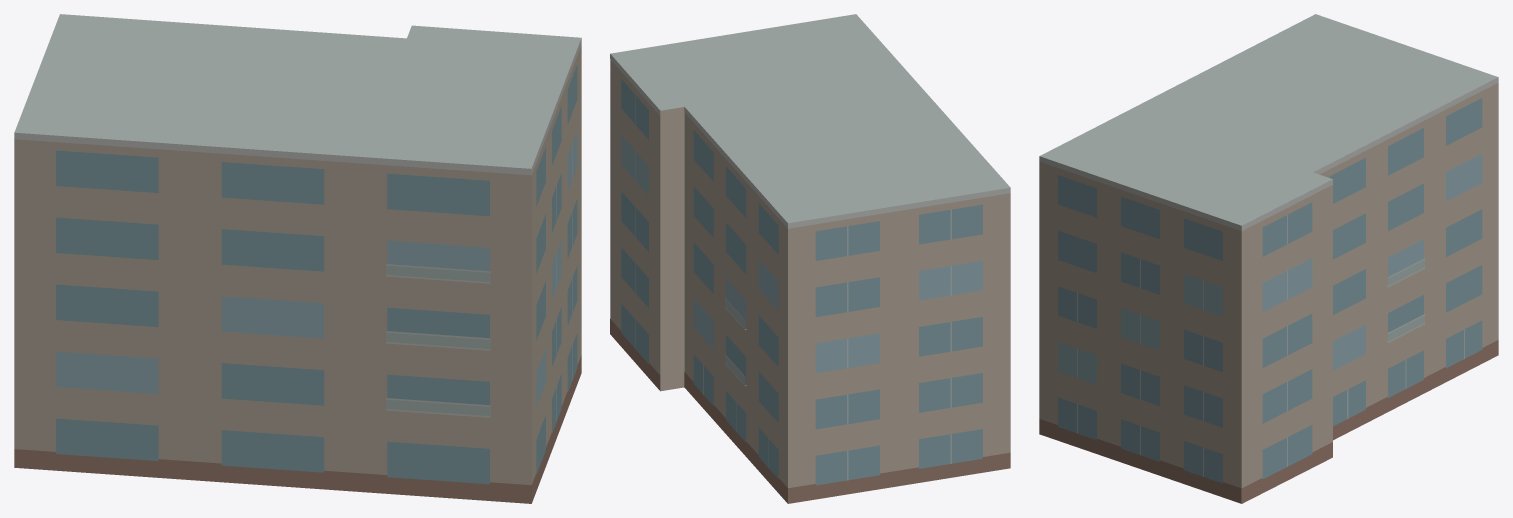
The model's file is survey-upis-32670550.glb.
3 renders of one model, left to right at view 1: azimuth 30°, elevation 25°; view 2: azimuth 150°, elevation 25°; view 3: azimuth 270°, elevation 25°, orthographic. The views are drawn at different scales.
Parts seen in each view (by area): view 1: survey-upis-32670550.tmp; view 2: survey-upis-32670550.tmp; view 3: survey-upis-32670550.tmp.
Part boxes in pixels (x1,y1,x2,y2): survey-upis-32670550.tmp: [14, 14, 581, 503]; survey-upis-32670550.tmp: [610, 14, 1010, 503]; survey-upis-32670550.tmp: [1039, 14, 1498, 503].
Bounding box in the file's own units: 20.59 × 12.6 × 18.86.
